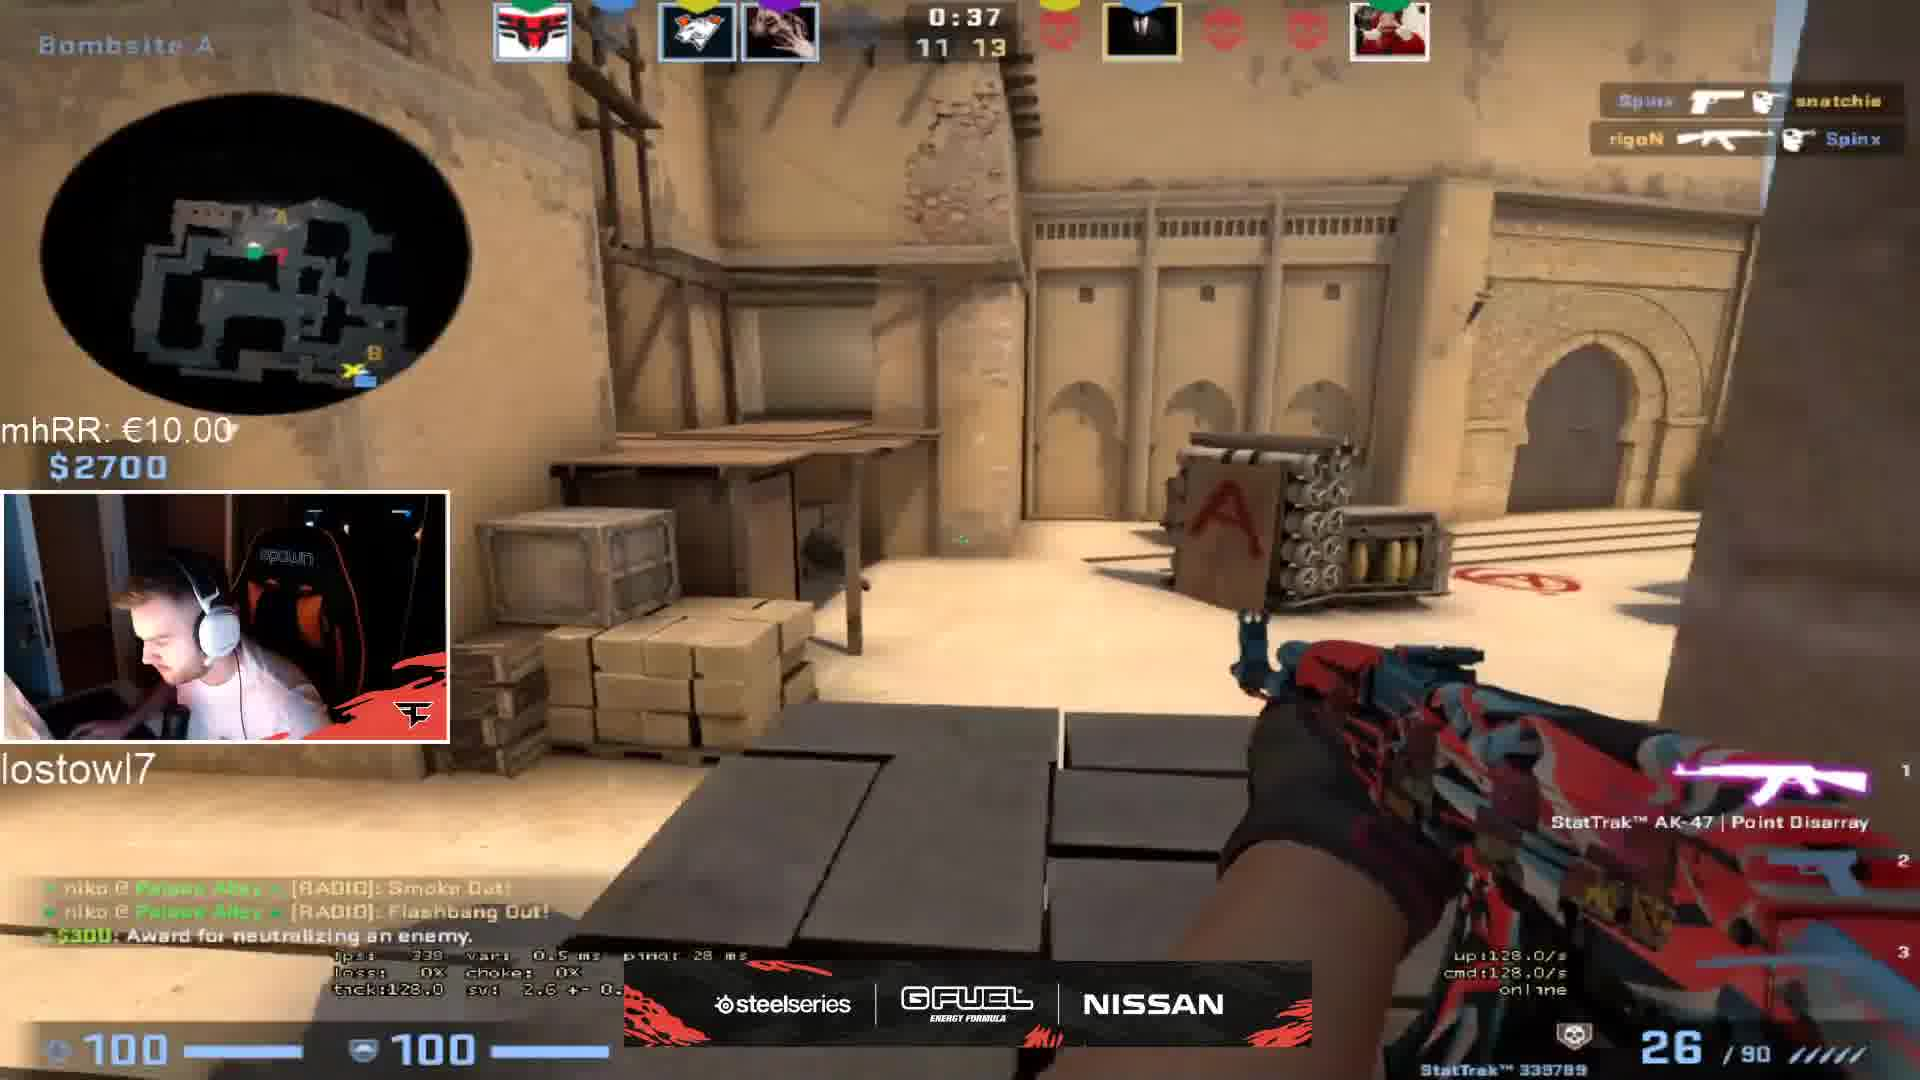enemy: (800, 522, 843, 587)
